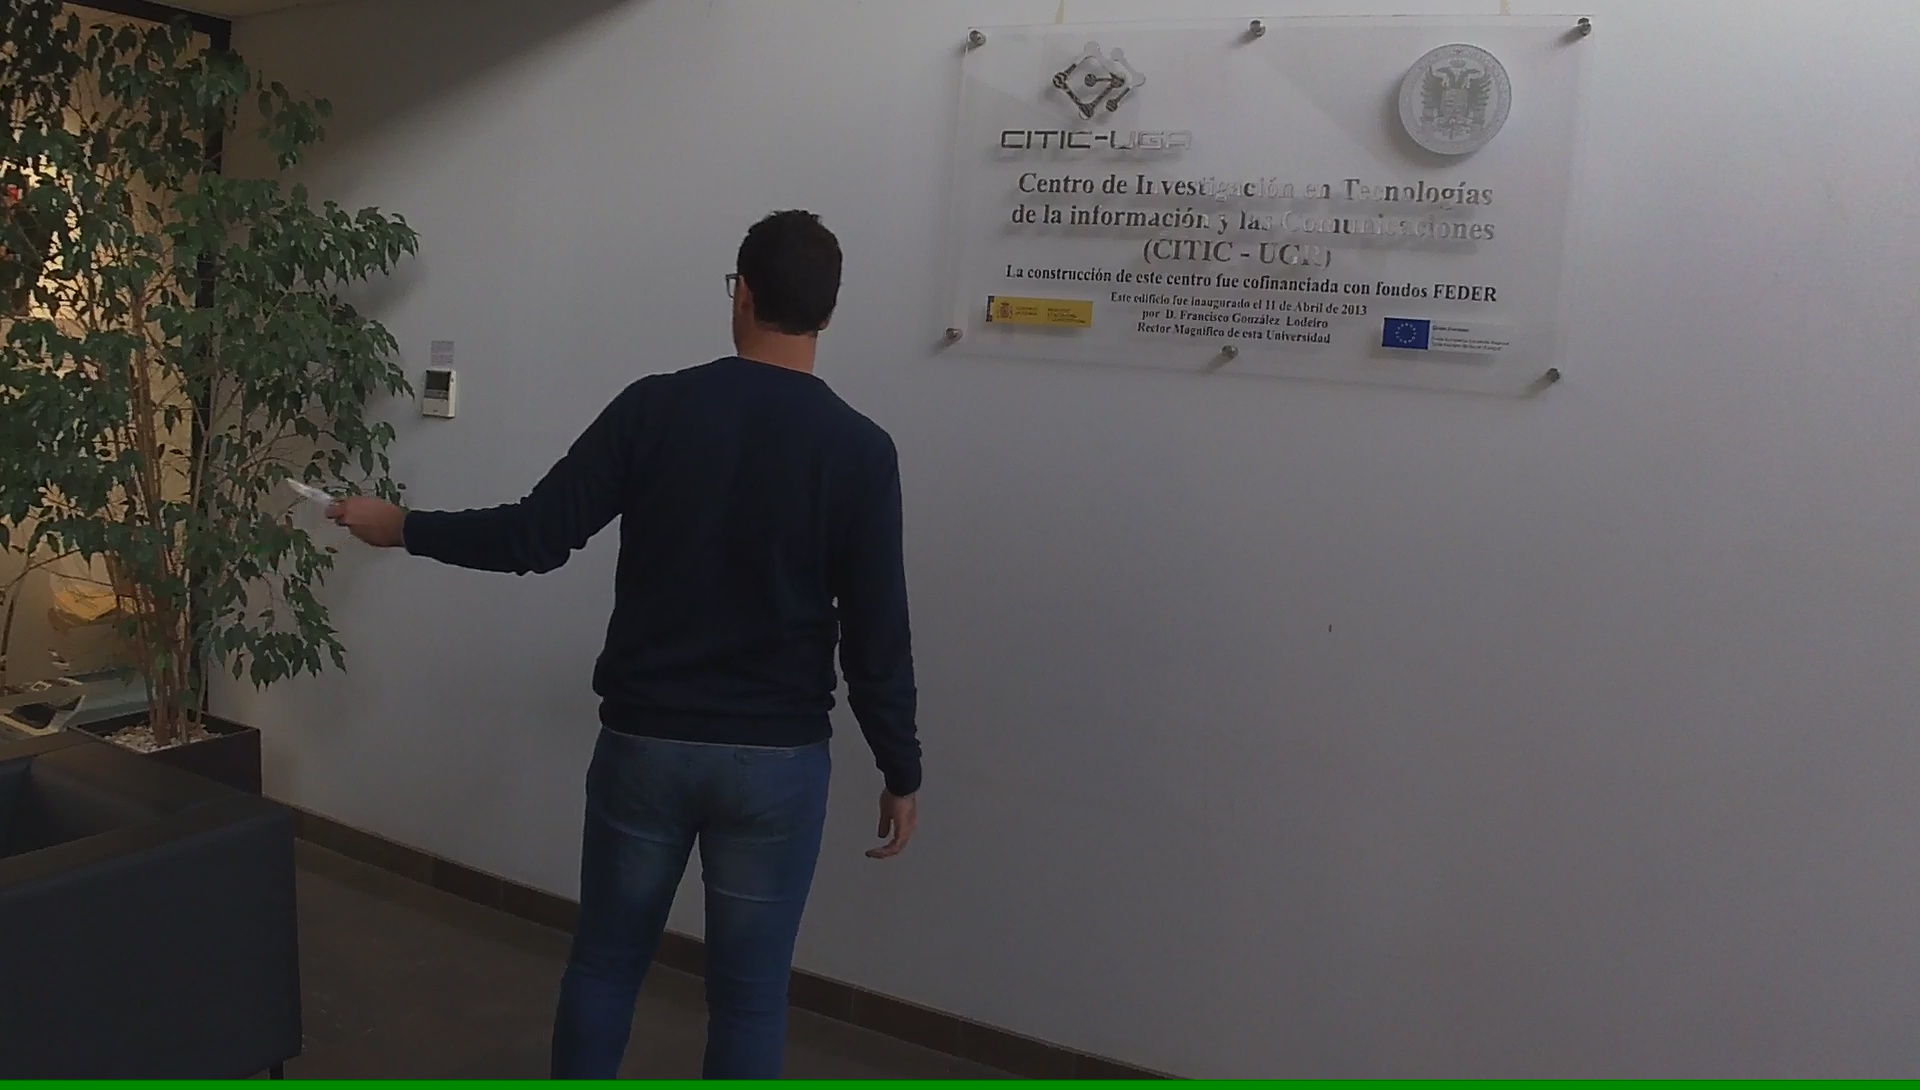knife: (274, 468, 371, 536)
